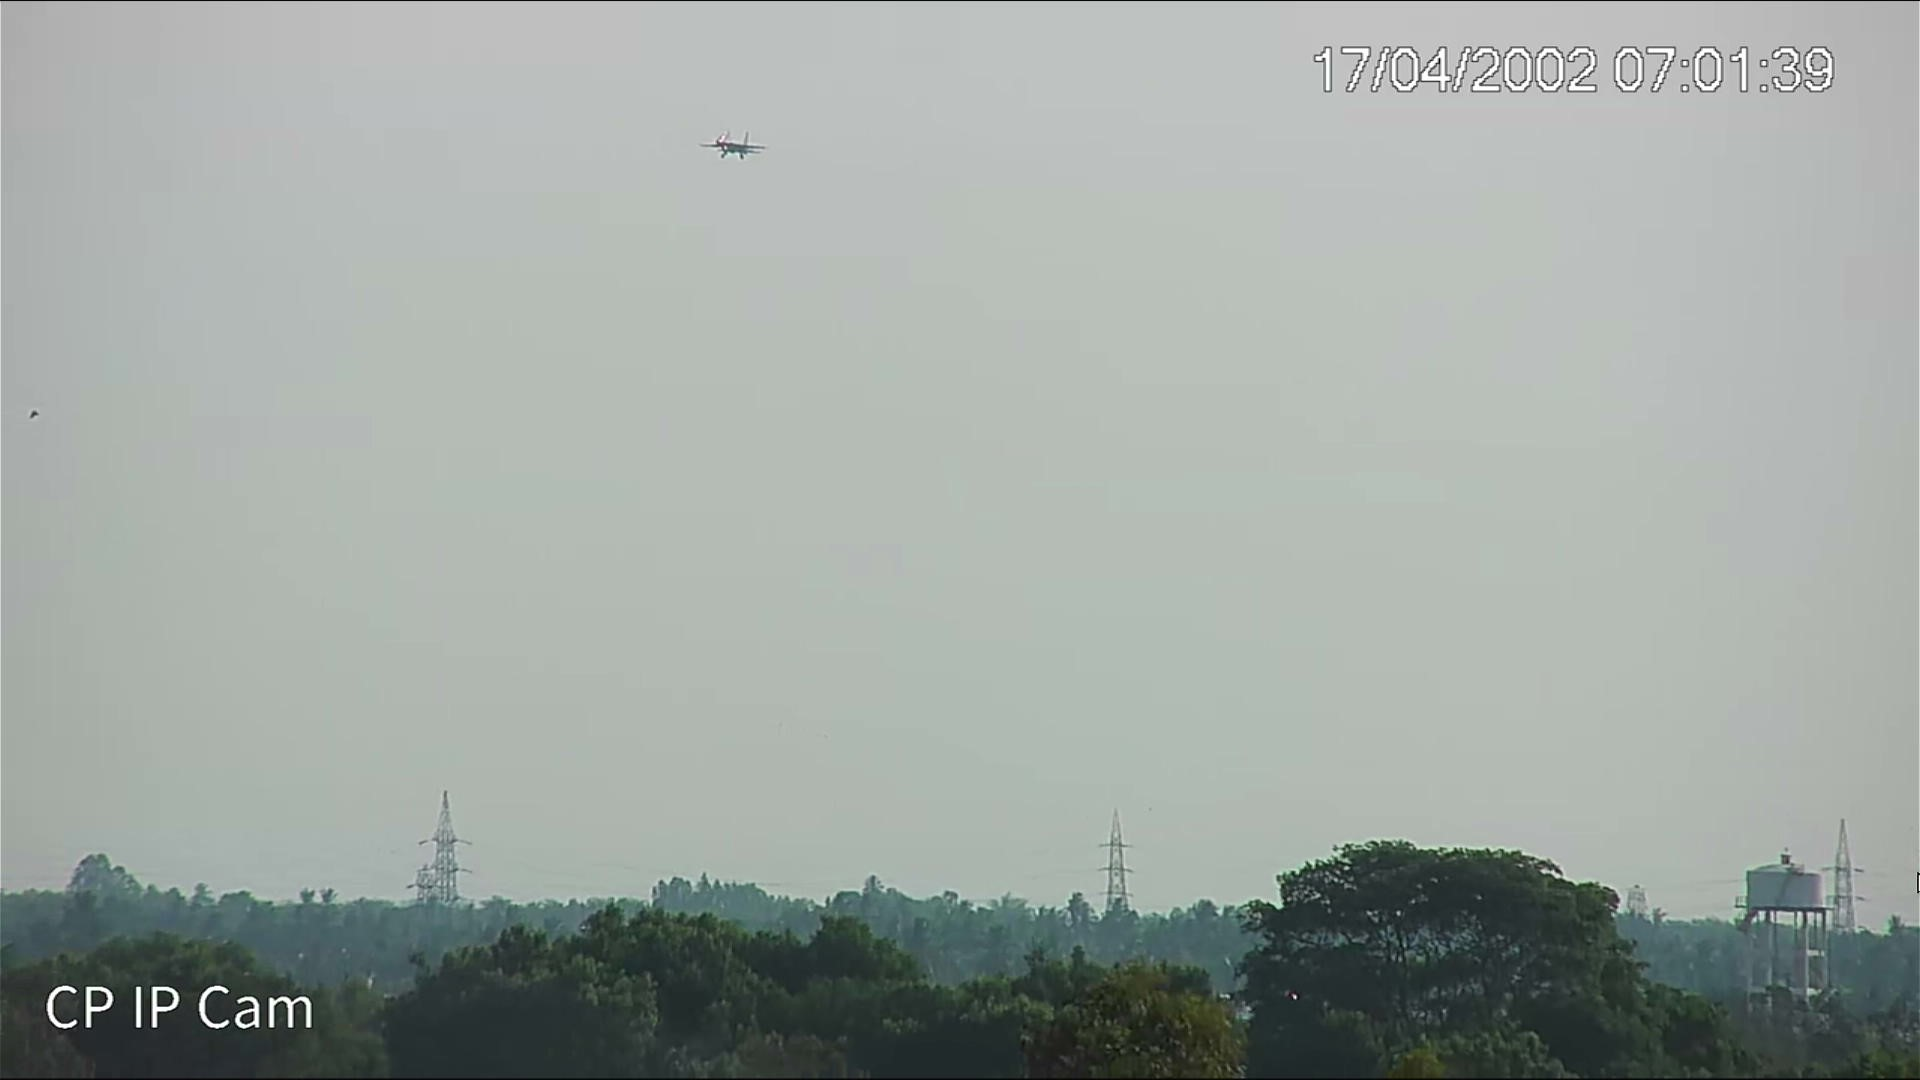SU_30: (700, 131, 769, 158)
